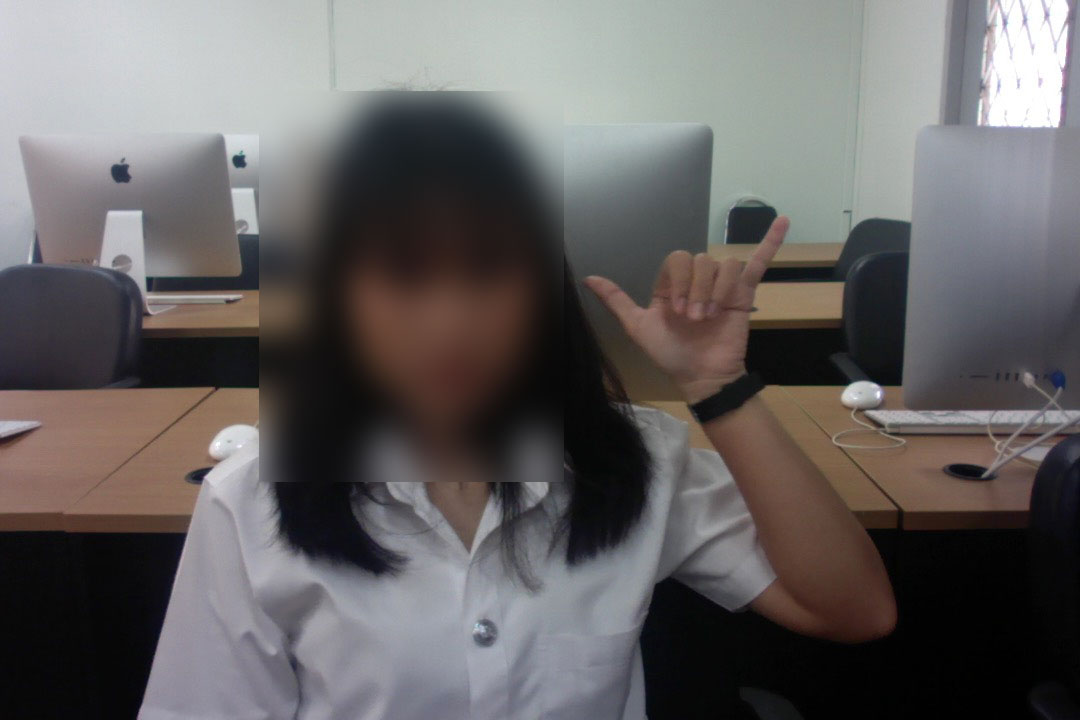yor: (578, 212, 796, 398)
